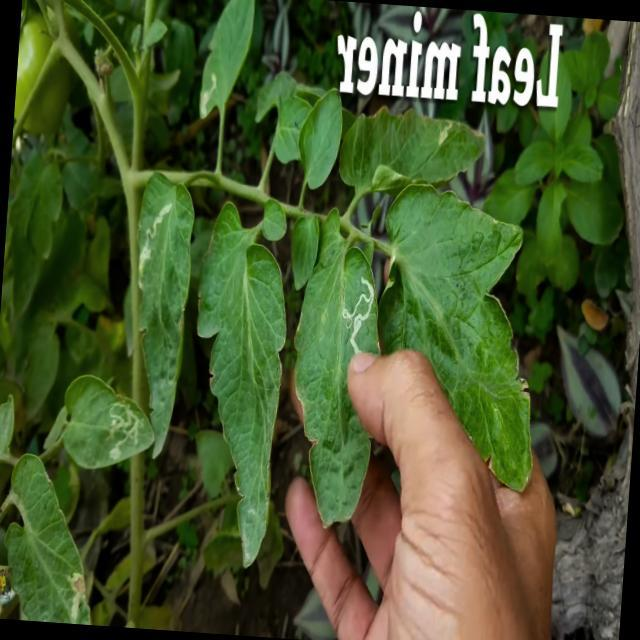Tomato healthy leaf: (294, 85, 346, 194), (288, 208, 320, 294)
Tomato target spot leaf: (281, 203, 391, 533), (122, 169, 198, 462), (0, 448, 103, 624), (336, 102, 488, 200), (59, 370, 159, 473), (196, 0, 257, 123)
